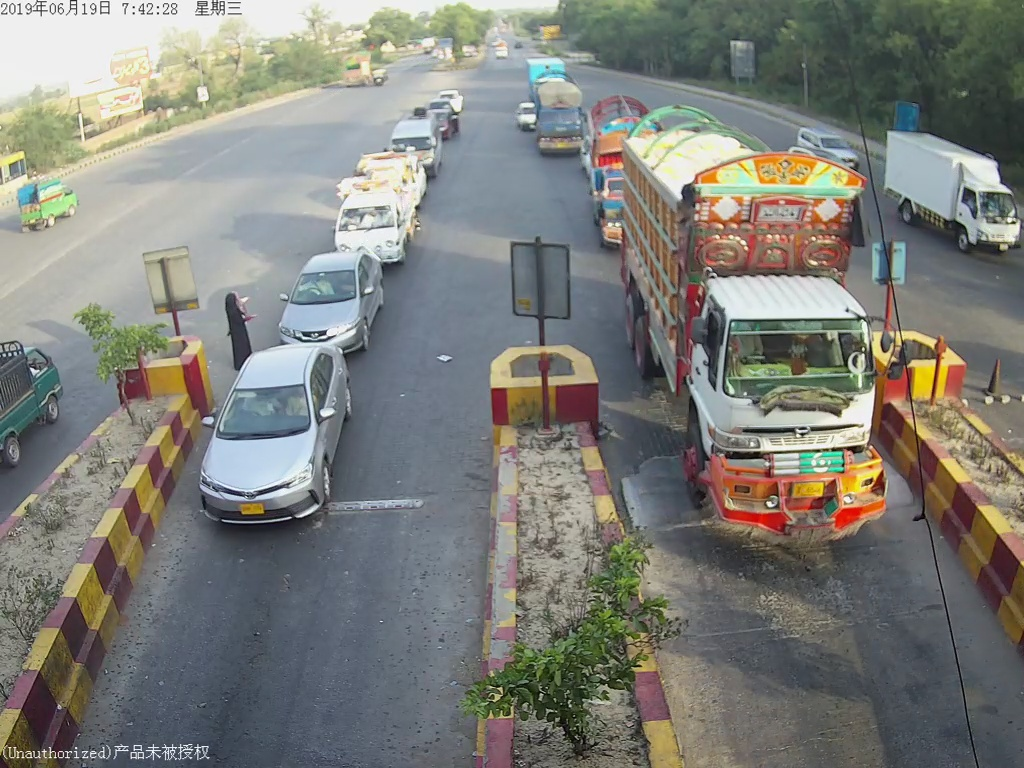Cat-1: (199, 356, 363, 529), (284, 254, 390, 351)
Cat-4: (592, 102, 904, 553)
